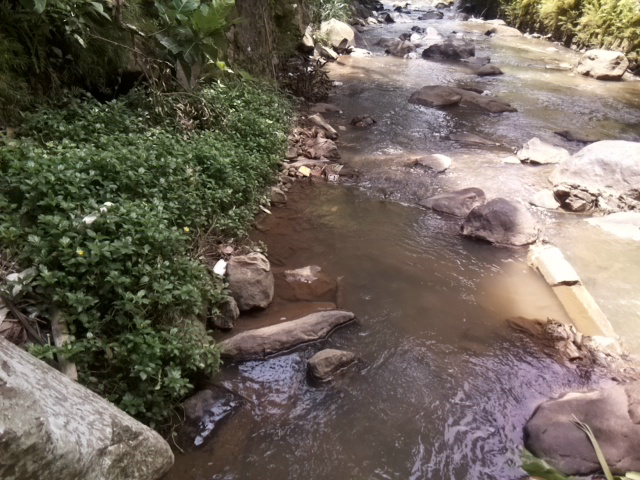Sampah_Styrofoam: (212, 254, 230, 279)
